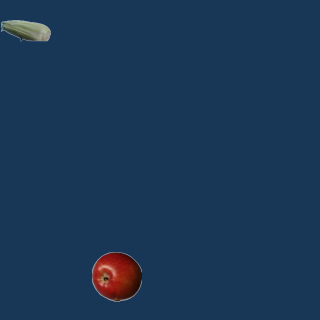Apple Braeburn: (91, 251, 141, 301)
Corn Husk: (0, 5, 50, 55)
